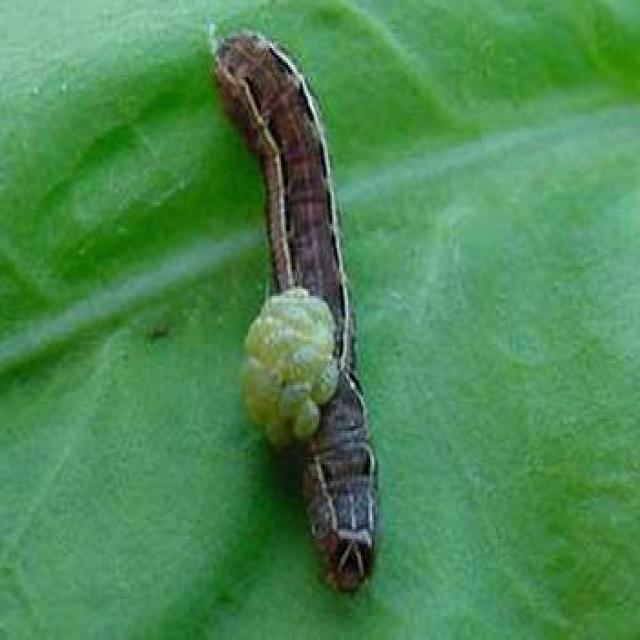BeetArmyWorm-Larva-: (214, 19, 389, 592)
